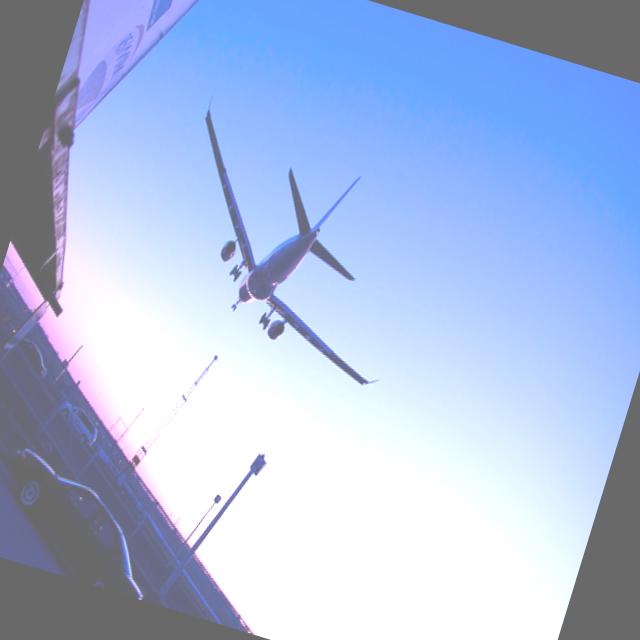Vehicle: (0, 444, 175, 600), (50, 402, 104, 448), (9, 336, 56, 383)
